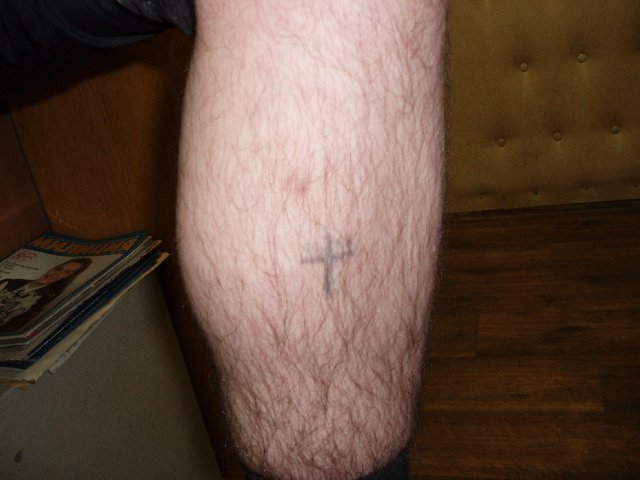tatu9_krest: (297, 222, 368, 295)
